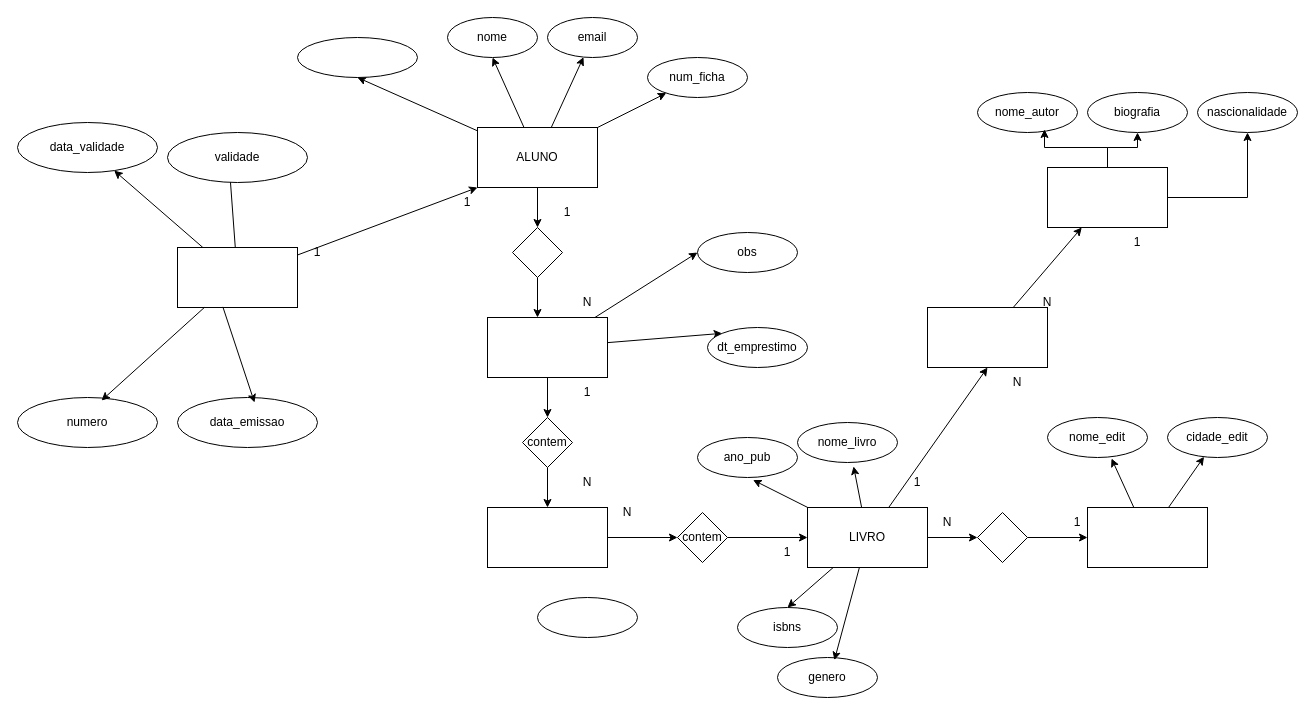
Image size: 1315x715. Some labels were removed from this diagram. Each missing label, with the box of its shape:
AUTOR: (1046, 166, 1168, 228)
CARTEIRINHA: (176, 246, 298, 308)
dt_devolucao: (536, 596, 638, 638)
dt_nascimento: (296, 36, 418, 78)
EDITORA: (1086, 506, 1208, 568)
EMPRESTIMO: (486, 316, 608, 378)
ITEM_EMPRESTIMO: (486, 506, 608, 568)
LIVRO_AUTOR: (926, 306, 1048, 368)
publica: (976, 512, 1028, 562)
realiza: (512, 226, 562, 278)
